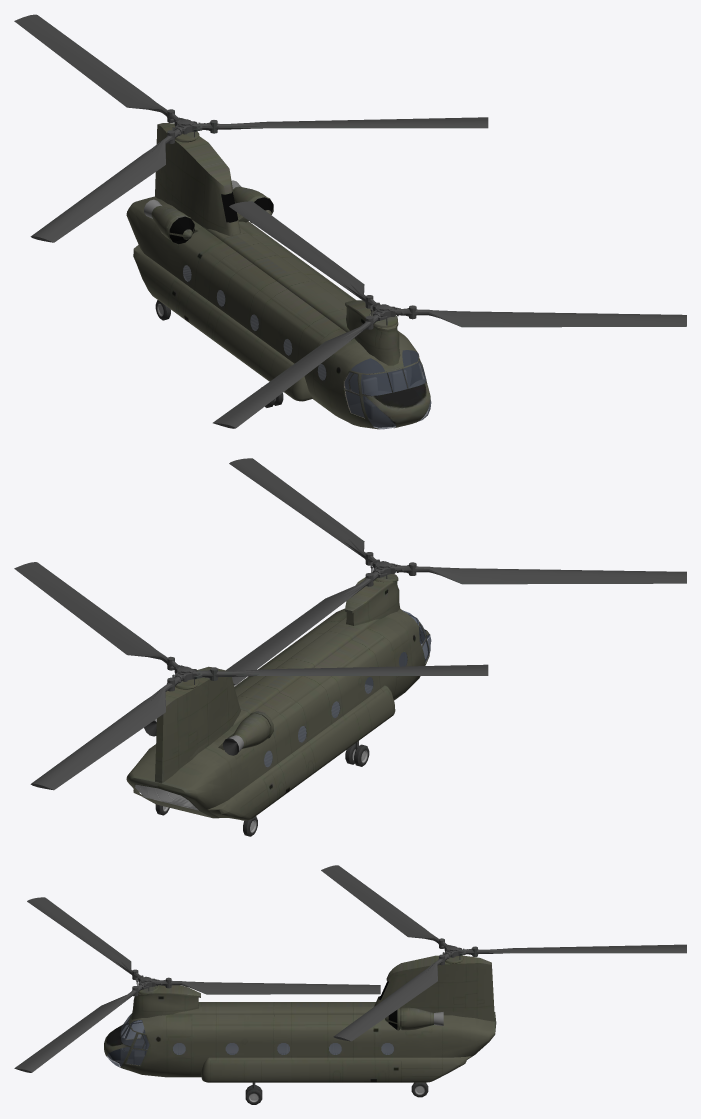
The picture shows the model from 3 angles, top to bottom: view 1: azimuth 30°, elevation 25°; view 2: azimuth 150°, elevation 25°; view 3: azimuth 270°, elevation 25°; orthographic projection. The views are drawn at different scales.
Visible parts, largest first — view 1: Exterior, Spin_2, Spin_3, Spin_4, Spin_1, Spin_0, Spin_5; view 2: Exterior, Spin_1, Spin_5, Spin_3, Spin_2, Spin_4, Spin_0; view 3: Exterior, Spin_0, Spin_4, Spin_5, Spin_2, Spin_3, Spin_1.
Part boxes in pixels (x1,y1,x2,y2): Exterior: [126, 123, 431, 429]; Spin_2: [394, 305, 686, 327]; Spin_3: [14, 14, 183, 122]; Spin_4: [30, 127, 182, 242]; Spin_1: [213, 313, 387, 428]; Spin_0: [229, 201, 380, 311]; Spin_5: [193, 117, 488, 133]; Exterior: [126, 572, 431, 836]; Spin_1: [394, 562, 686, 584]; Spin_5: [14, 562, 183, 670]; Spin_3: [30, 674, 182, 790]; Spin_2: [229, 458, 380, 568]; Spin_4: [193, 664, 488, 680]; Spin_0: [226, 569, 387, 685]; Exterior: [104, 955, 496, 1104]; Spin_0: [154, 977, 380, 994]; Spin_4: [321, 865, 451, 948]; Spin_5: [333, 952, 450, 1041]; Spin_2: [14, 983, 149, 1072]; Spin_3: [459, 944, 686, 956]; Spin_1: [27, 897, 143, 982].
Size of the model in its own units: 16.32 by 5.9 by 25.96.
53 materials, 43 textured.
